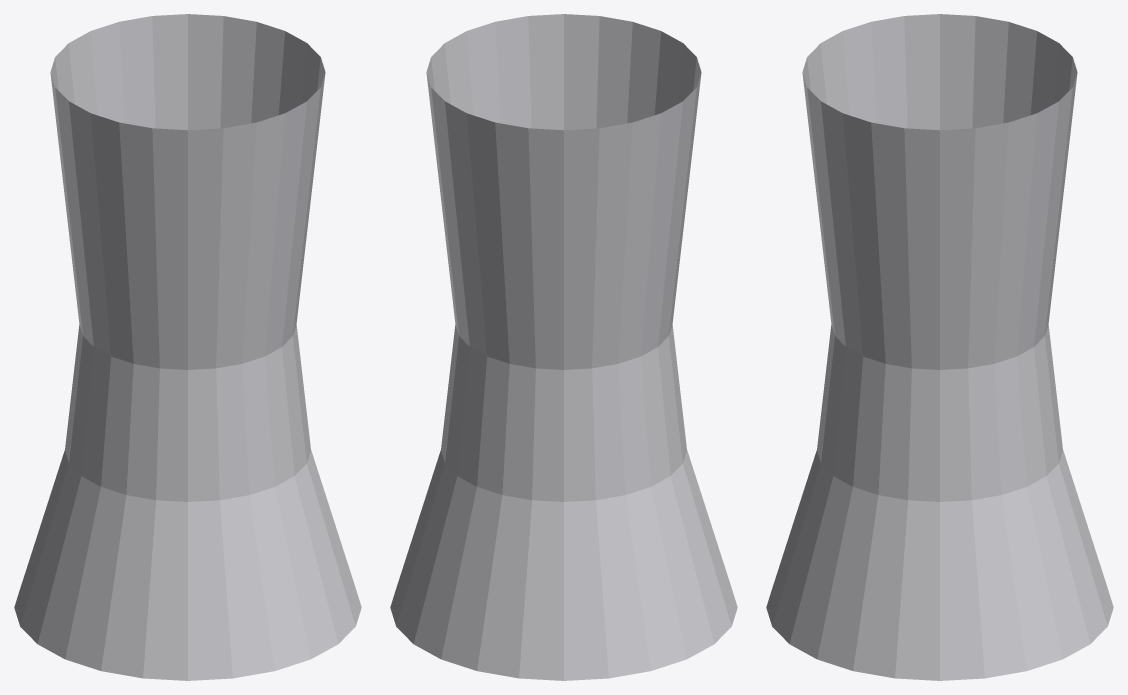
3 renders of one model, left to right at view 1: azimuth 30°, elevation 25°; view 2: azimuth 150°, elevation 25°; view 3: azimuth 270°, elevation 25°, orthographic.
Size of the model in its own units: 0.48 by 0.816 by 0.48.
Materials: 1 (1 with a texture image).
